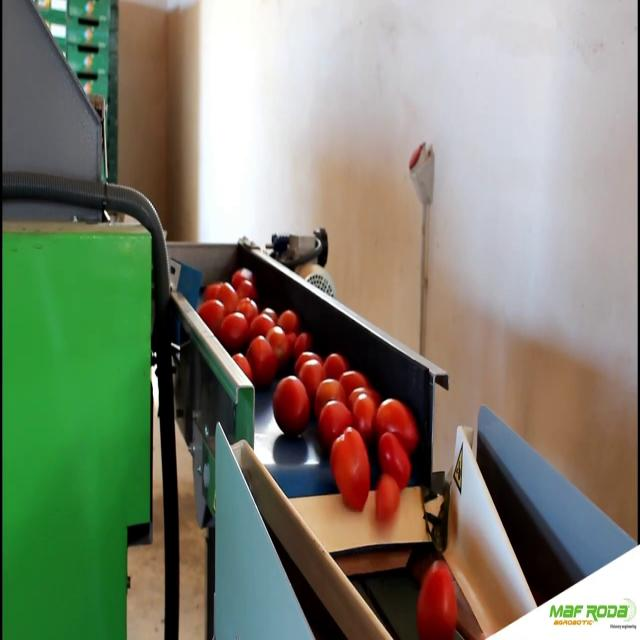Tomato: (415, 558, 459, 639), (331, 426, 368, 517), (270, 376, 310, 434), (377, 400, 419, 442), (378, 433, 411, 482), (249, 338, 278, 384), (376, 476, 404, 520), (322, 399, 351, 437), (200, 296, 223, 338), (312, 380, 343, 410), (354, 392, 378, 430), (223, 311, 250, 337), (268, 326, 286, 360), (211, 283, 236, 306), (232, 265, 255, 290), (324, 353, 348, 376), (342, 372, 364, 393), (280, 308, 300, 330), (236, 353, 250, 382)
